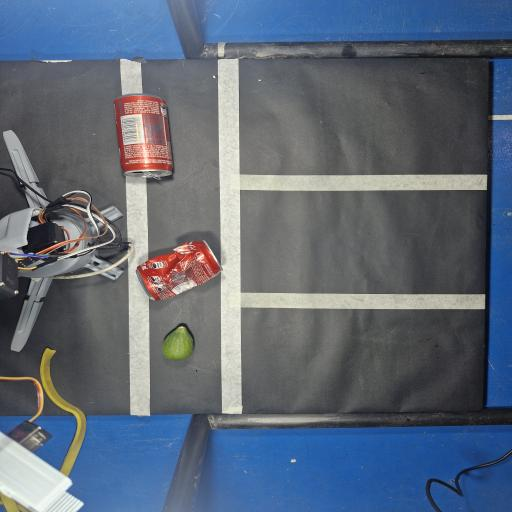higo: (162, 326, 193, 360)
lata: (114, 94, 172, 178)
lata_defectuoso: (136, 241, 222, 300)
